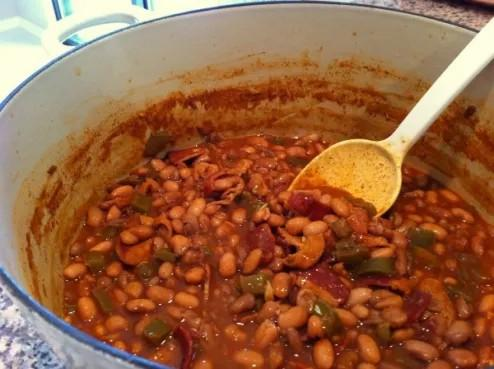RajmaCurry: (63, 131, 494, 369)
